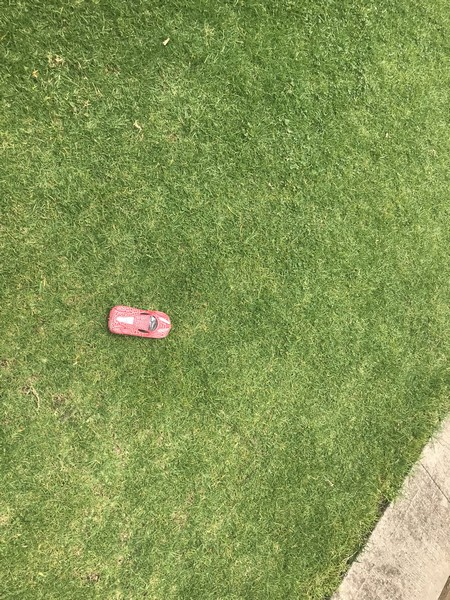RC: (104, 303, 174, 341)
